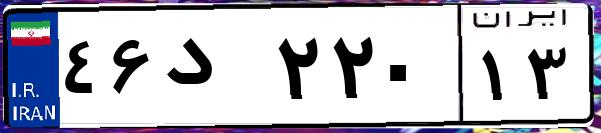0: (385, 28, 445, 110)
1: (475, 38, 525, 113)
2: (270, 28, 330, 110), (330, 28, 385, 110)
3: (525, 38, 570, 115)
4: (57, 26, 110, 100)
6: (110, 28, 158, 98)
د: (158, 20, 270, 120)
